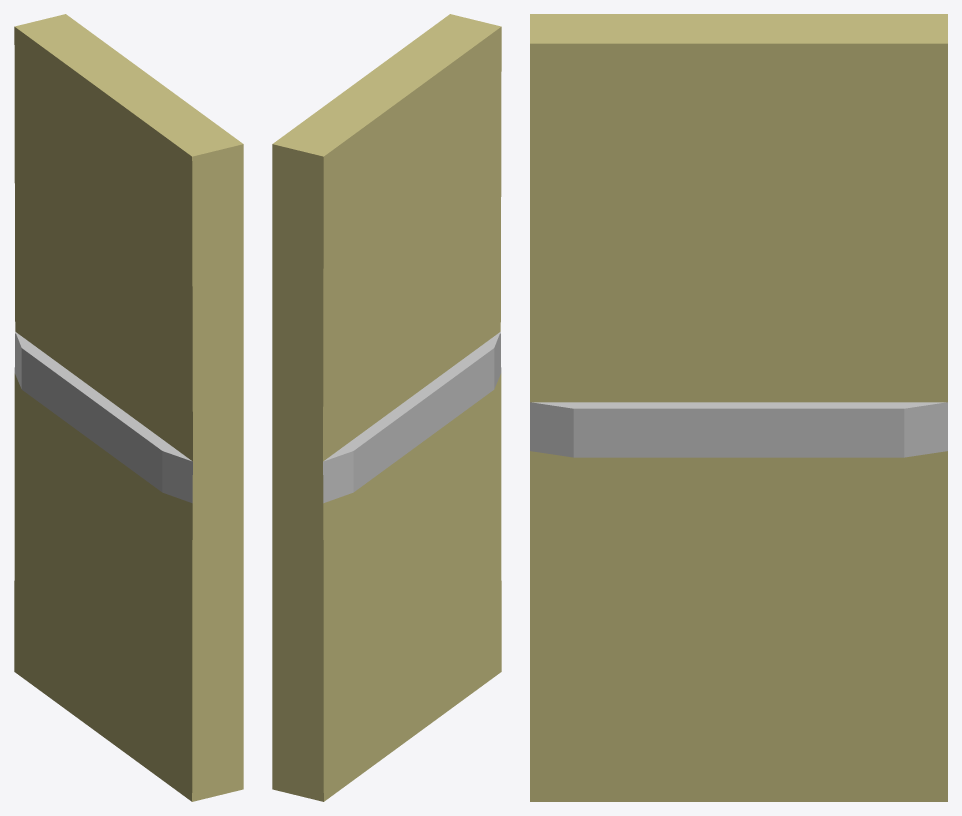
The model's file is doorfirstfloor.fbx.
3 views of the same model, side by side, from view 1: azimuth 30°, elevation 25°; view 2: azimuth 150°, elevation 25°; view 3: azimuth 270°, elevation 25° (orthographic). The views are drawn at different scales.
Parts seen in each view (by area): view 1: Cube.001; view 2: Cube.001; view 3: Cube.001.
Part boxes in pixels (<box>): Cube.001: <box>14,14,243,801</box>; Cube.001: <box>272,14,501,801</box>; Cube.001: <box>530,14,947,801</box>.
Size of the model in its own units: 2.4 by 0.2878 by 1.2.
